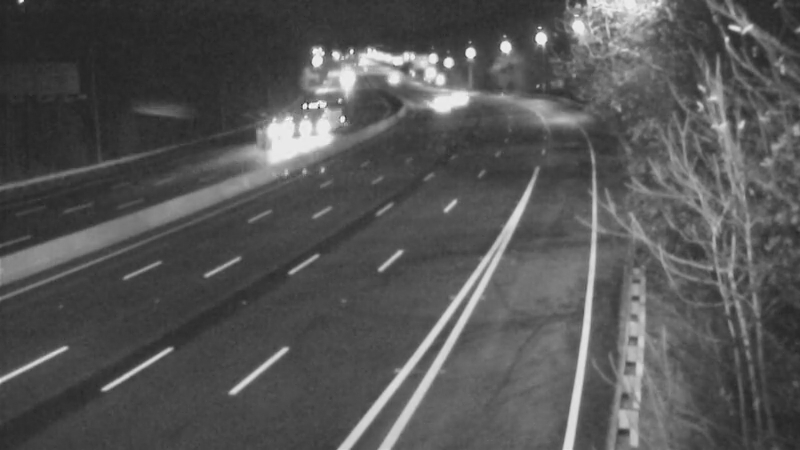vehicle: (367, 51, 417, 101), (427, 73, 477, 123), (414, 77, 464, 127), (257, 104, 307, 154), (279, 108, 329, 158)
